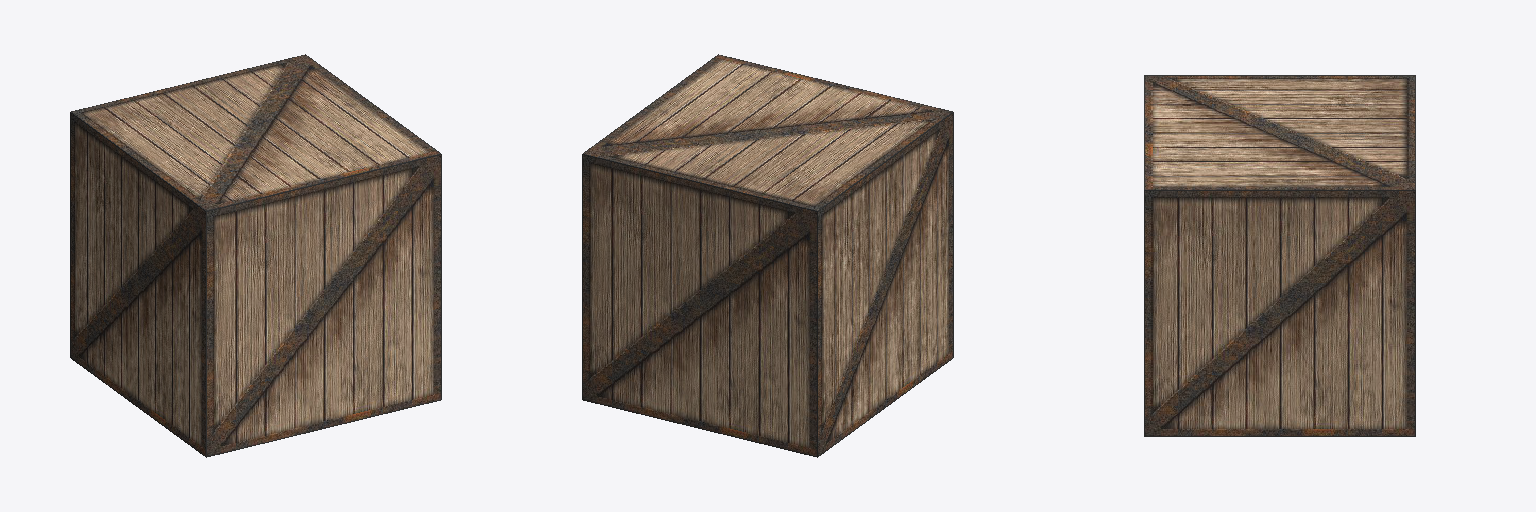
The picture shows the model from 3 angles: view 1: azimuth 30°, elevation 25°; view 2: azimuth 150°, elevation 25°; view 3: azimuth 270°, elevation 25°; orthographic projection.
Visible parts, largest first — view 1: Box01; view 2: Box01; view 3: Box01.
Part boxes in pixels (left/top/right/bottom): Box01: left=70, top=54, right=441, bottom=457; Box01: left=582, top=54, right=953, bottom=457; Box01: left=1144, top=75, right=1415, bottom=436.
Bounding box in the file's own units: 1 × 1 × 1.
1 materials, 1 textured.